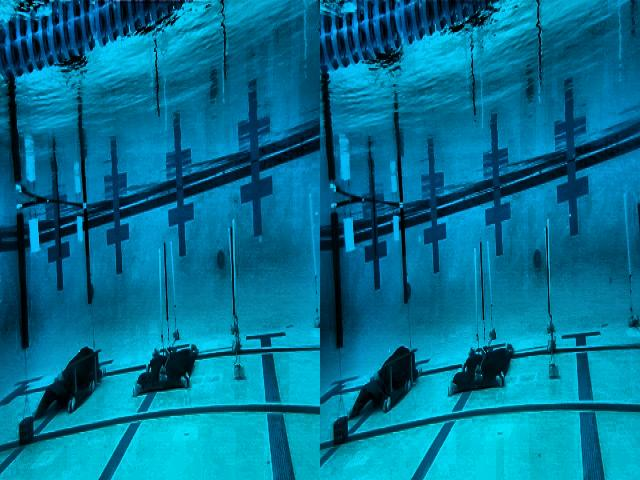gate: (331, 192, 410, 352), (16, 194, 95, 352)
path_marker: (65, 348, 105, 415), (383, 345, 418, 413)
